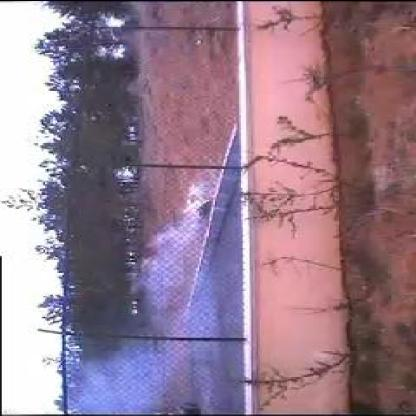-: (80, 183, 206, 386)
